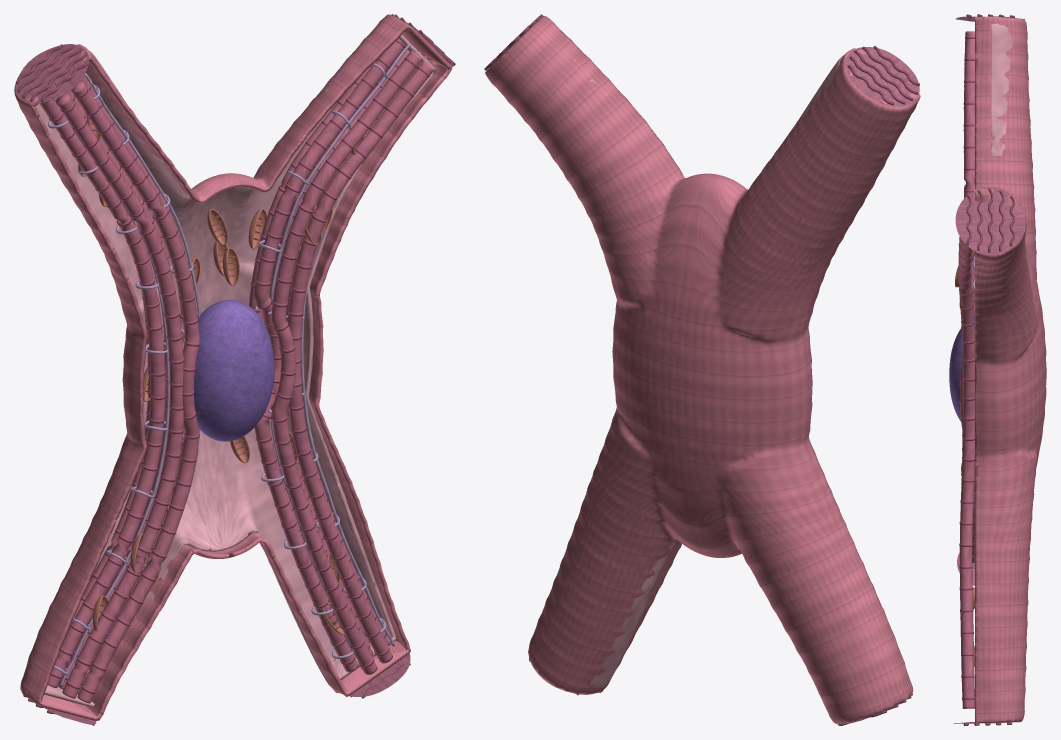
The model's file is cardiomiocito-cutaway.glb.
3 views of the same model, side by side, from view 1: azimuth 30°, elevation 25°; view 2: azimuth 150°, elevation 25°; view 3: azimuth 270°, elevation 25° (orthographic). The views are drawn at different scales.
Parts seen in each view (by area): view 1: myofibrils_mesh, sarcolemma_mesh, sarcoplasm_mesh, nucleus_mesh, sarcoplasmic_reticulum_mesh, intercalated_discs_mesh, mitochondria_mesh; view 2: sarcolemma_mesh, intercalated_discs_mesh, sarcoplasm_mesh; view 3: sarcolemma_mesh, myofibrils_mesh, intercalated_discs_mesh, sarcoplasm_mesh, nucleus_mesh, mitochondria_mesh.
Boxes of the visible parts, x1,y1,x2,y2 form: myofibrils_mesh: [39, 39, 433, 703]; sarcolemma_mesh: [14, 14, 452, 720]; sarcoplasm_mesh: [35, 29, 435, 707]; nucleus_mesh: [194, 299, 274, 441]; sarcoplasmic_reticulum_mesh: [48, 39, 421, 686]; intercalated_discs_mesh: [15, 14, 455, 725]; mitochondria_mesh: [78, 116, 365, 635]; sarcolemma_mesh: [485, 16, 920, 723]; intercalated_discs_mesh: [484, 14, 919, 725]; sarcoplasm_mesh: [551, 34, 843, 712]; sarcolemma_mesh: [975, 16, 1046, 723]; myofibrils_mesh: [958, 31, 974, 708]; intercalated_discs_mesh: [953, 14, 1025, 725]; sarcoplasm_mesh: [991, 23, 1012, 156]; nucleus_mesh: [949, 316, 974, 421]; mitochondria_mesh: [955, 250, 974, 666].
Bounding box in the file's own units: 2.88 × 4.6 × 0.6736.
Materials: 10 (10 with a texture image).
